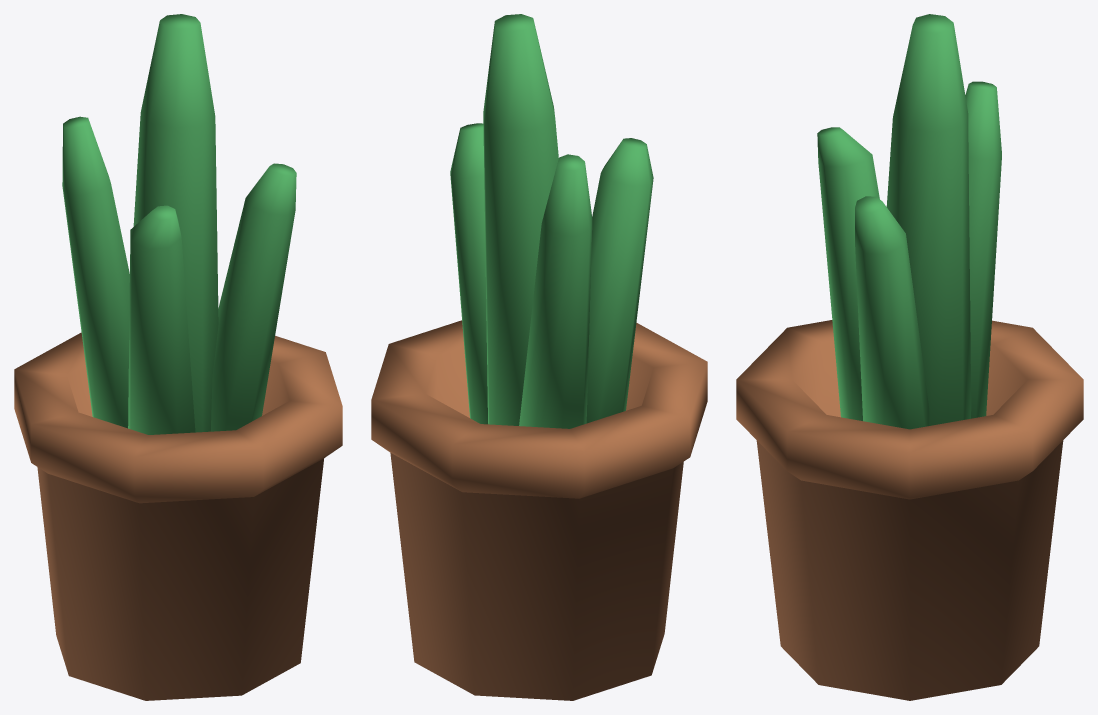
File: decoplants.fbx
3 views of the same model, side by side, from view 1: azimuth 30°, elevation 25°; view 2: azimuth 150°, elevation 25°; view 3: azimuth 270°, elevation 25° (orthographic). The views are drawn at different scales.
Parts seen in each view (by area): view 1: decoplants; view 2: decoplants; view 3: decoplants.
Part boxes in pixels (x1=…): decoplants: x1=14, y1=14, x2=342, y2=700; decoplants: x1=371, y1=14, x2=707, y2=700; decoplants: x1=736, y1=14, x2=1083, y2=700.
Size of the model in its own units: 0.3621 by 0.725 by 0.3621.
